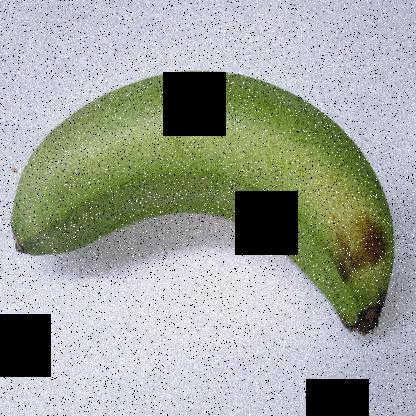freshunripe: (2, 62, 402, 352)
